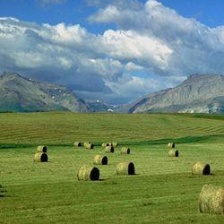neutral: (2, 4, 223, 224)
